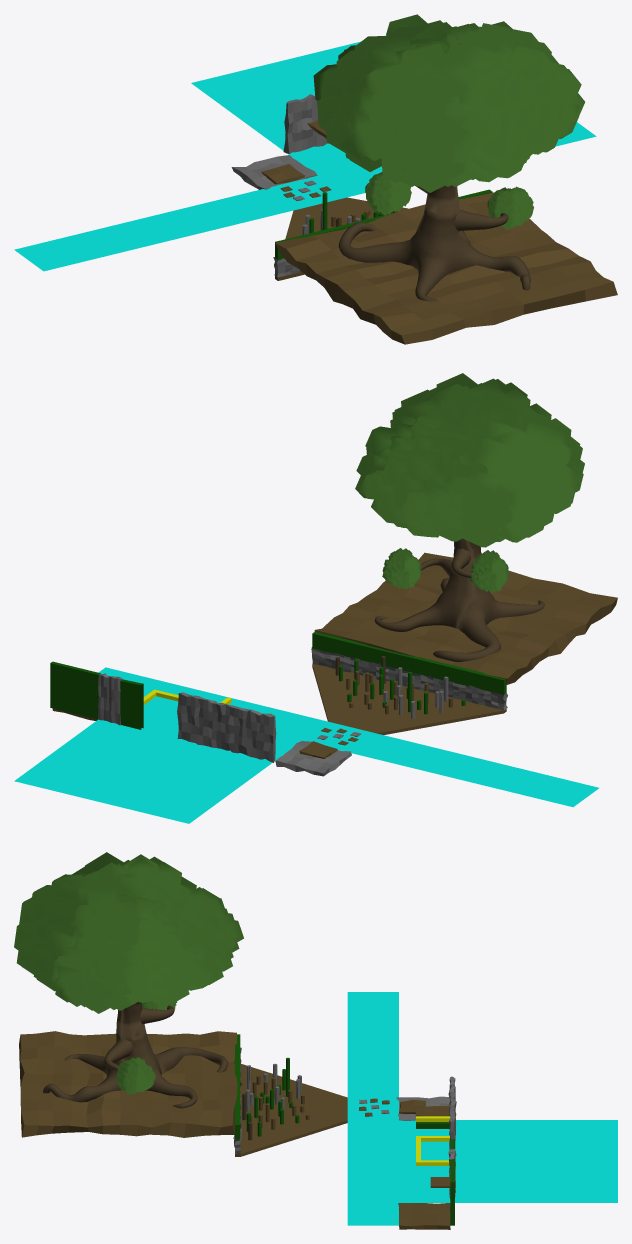
The model's file is Stage02.fbx.
3 renders of one model, top to bottom at view 1: azimuth 30°, elevation 25°; view 2: azimuth 150°, elevation 25°; view 3: azimuth 270°, elevation 25°, orthographic. The views are drawn at different scales.
Parts seen in each view (by area): view 1: Tree, Plane, Plane.003, Plane.010, Plane.002, Plane.004, Plane.008, Plane.005; view 2: Tree, Plane.003, Plane, Plane.002, Plane.010, Plane.008, Plane.001, Plane.009, Plane.004, Plane.007, Plane.012; view 3: Tree, Plane.003, Plane, Plane.002, Plane.006, Plane.008.
Part boxes in pixels (left/top/right/bottom): Tree: left=313, top=14, right=584, bottom=301; Plane: left=275, top=192, right=617, bottom=344; Plane.003: left=14, top=35, right=596, bottom=271; Plane.010: left=283, top=94, right=328, bottom=153; Plane.002: left=275, top=197, right=408, bottom=280; Plane.004: left=231, top=155, right=317, bottom=189; Plane.008: left=275, top=189, right=492, bottom=260; Plane.005: left=261, top=164, right=304, bottom=184; Tree: left=355, top=373, right=584, bottom=661; Plane.003: left=14, top=667, right=598, bottom=823; Plane: left=314, top=552, right=617, bottom=684; Plane.002: left=312, top=664, right=506, bottom=734; Plane.010: left=177, top=692, right=276, bottom=762; Plane.008: left=312, top=631, right=506, bottom=694; Plane.001: left=311, top=647, right=507, bottom=710; Plane.009: left=50, top=661, right=100, bottom=719; Plane.004: left=275, top=741, right=351, bottom=776; Plane.007: left=120, top=679, right=143, bottom=729; Plane.012: left=98, top=673, right=122, bottom=725; Tree: left=14, top=852, right=243, bottom=1108; Plane.003: left=347, top=992, right=617, bottom=1225; Plane: left=19, top=1031, right=237, bottom=1137; Plane.002: left=235, top=1064, right=347, bottom=1156; Plane.006: left=398, top=1203, right=450, bottom=1229; Plane.008: left=235, top=1034, right=240, bottom=1138.
Size of the model in its own units: 51613 by 24622 by 56359.
